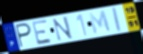1: (76, 14, 88, 37)
E: (31, 19, 53, 46)
I: (112, 6, 123, 33)
M: (88, 10, 112, 36)
N: (51, 15, 74, 42)
P: (15, 22, 33, 49)
